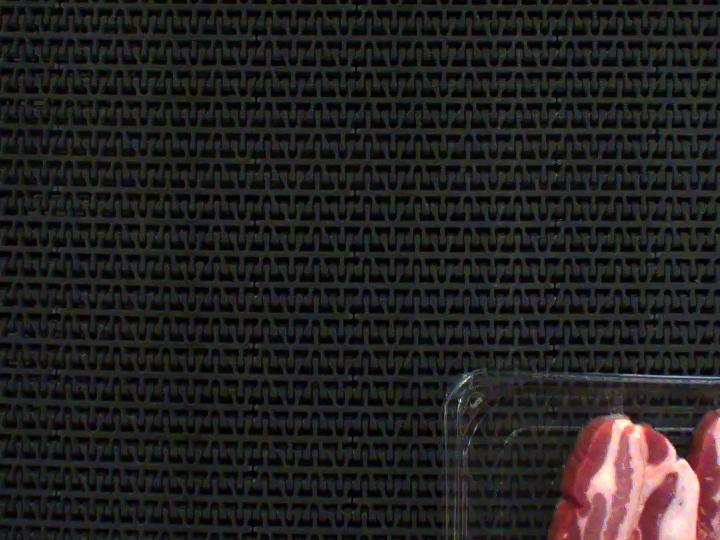packaging-error: (601, 380, 623, 421)
